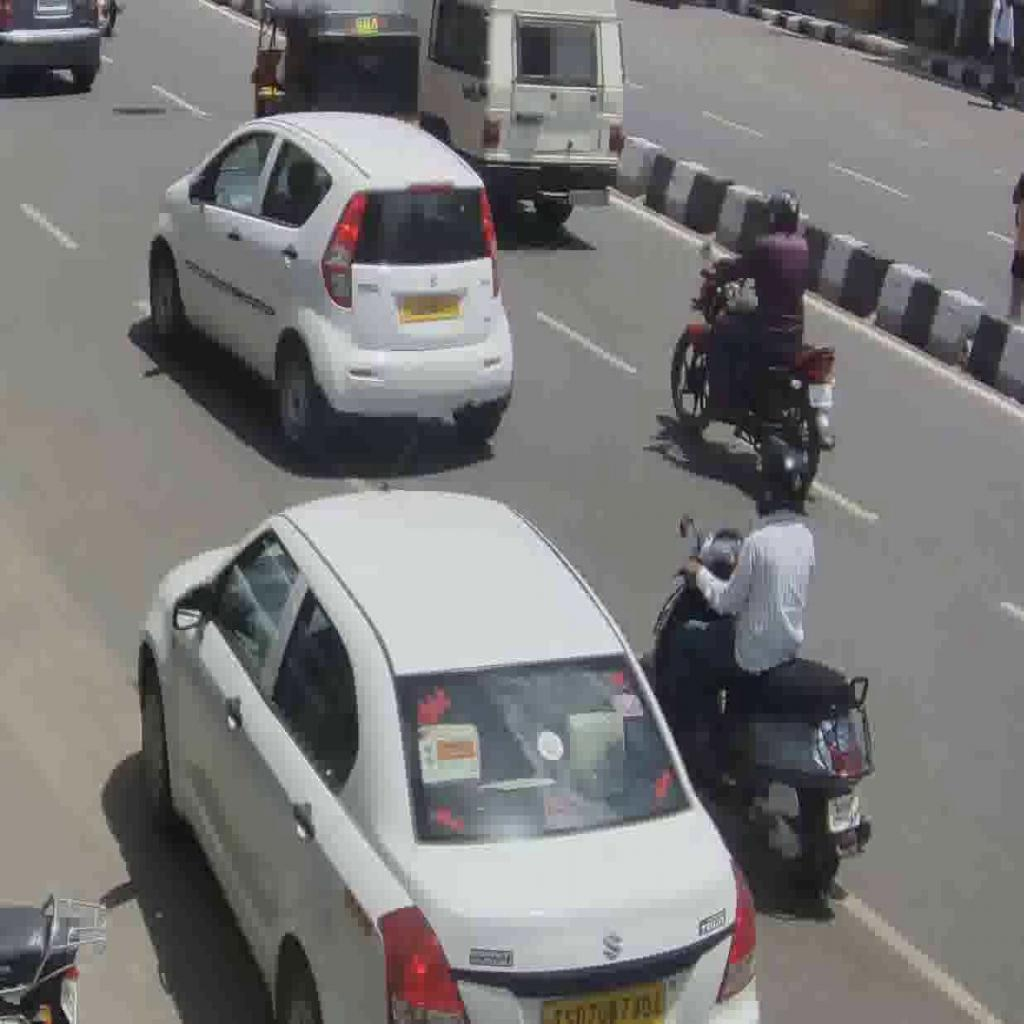helmet: (635, 520, 877, 902), (671, 255, 840, 500)
